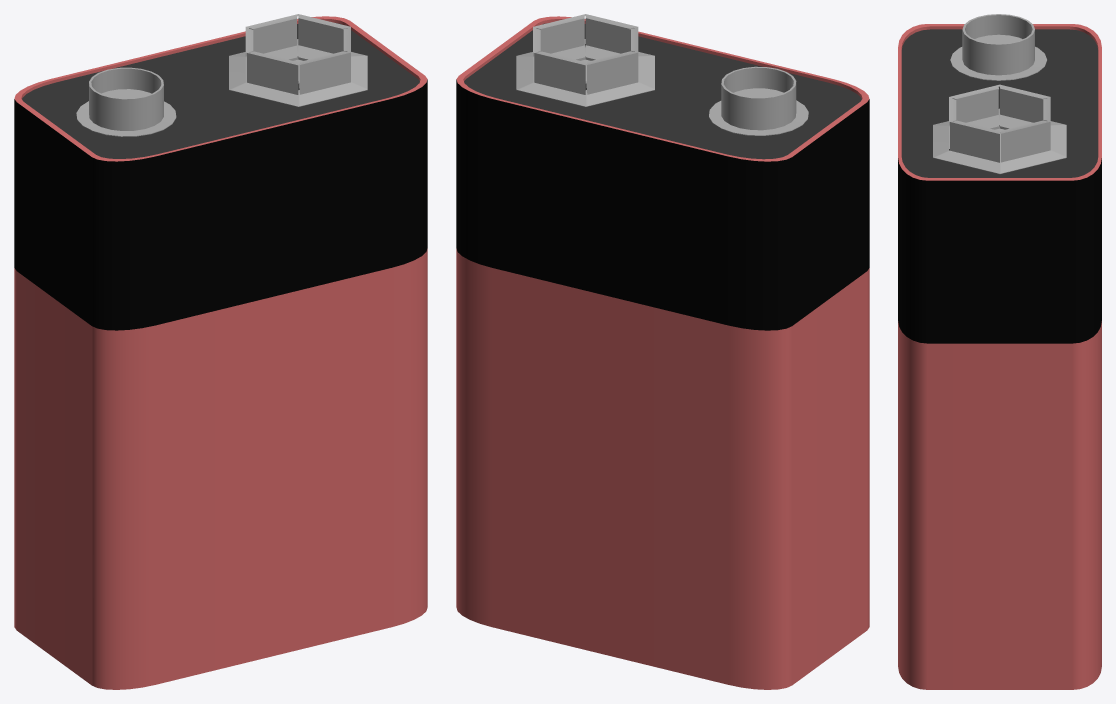
File: Battery.fbx
3 views of the same model, side by side, from view 1: azimuth 30°, elevation 25°; view 2: azimuth 150°, elevation 25°; view 3: azimuth 270°, elevation 25° (orthographic). The views are drawn at different scales.
Parts seen in each view (by area): view 1: battery; view 2: battery; view 3: battery.
Part boxes in pixels (left/top/right/bottom): battery: left=14, top=14, right=427, bottom=689; battery: left=456, top=14, right=869, bottom=689; battery: left=898, top=14, right=1101, bottom=689.
Bounding box in the file's own units: 1.65 × 2.64 × 0.9037.
